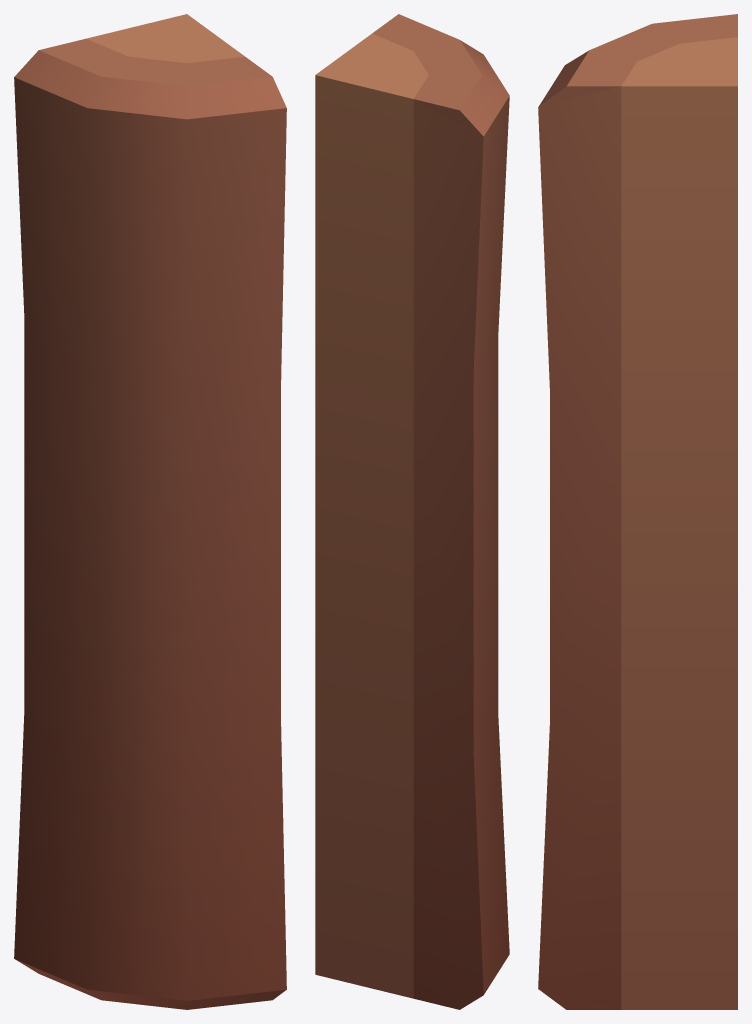
Rendered from prop_log_split.glb.
3 views of the same model, side by side, from view 1: azimuth 30°, elevation 25°; view 2: azimuth 150°, elevation 25°; view 3: azimuth 270°, elevation 25° (orthographic). The views are drawn at different scales.
Visible parts, largest first — view 1: log_split; view 2: log_split; view 3: log_split.
Part boxes in pixels (box(x1,y1,x2,y2)): log_split: box(14, 14, 286, 1009); log_split: box(315, 14, 509, 1009); log_split: box(538, 14, 737, 1009).
Bounding box in the file's own units: 0.2093 × 1.07 × 0.2093.
1 material, 1 textured.
